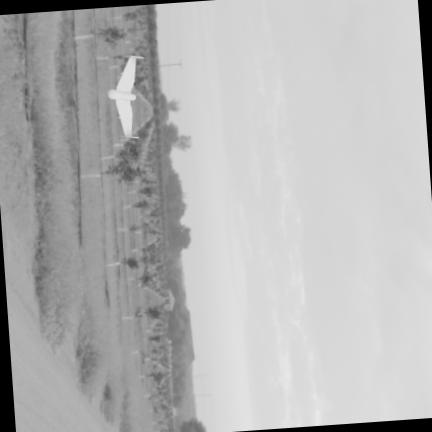Shahed: (106, 55, 142, 138)
